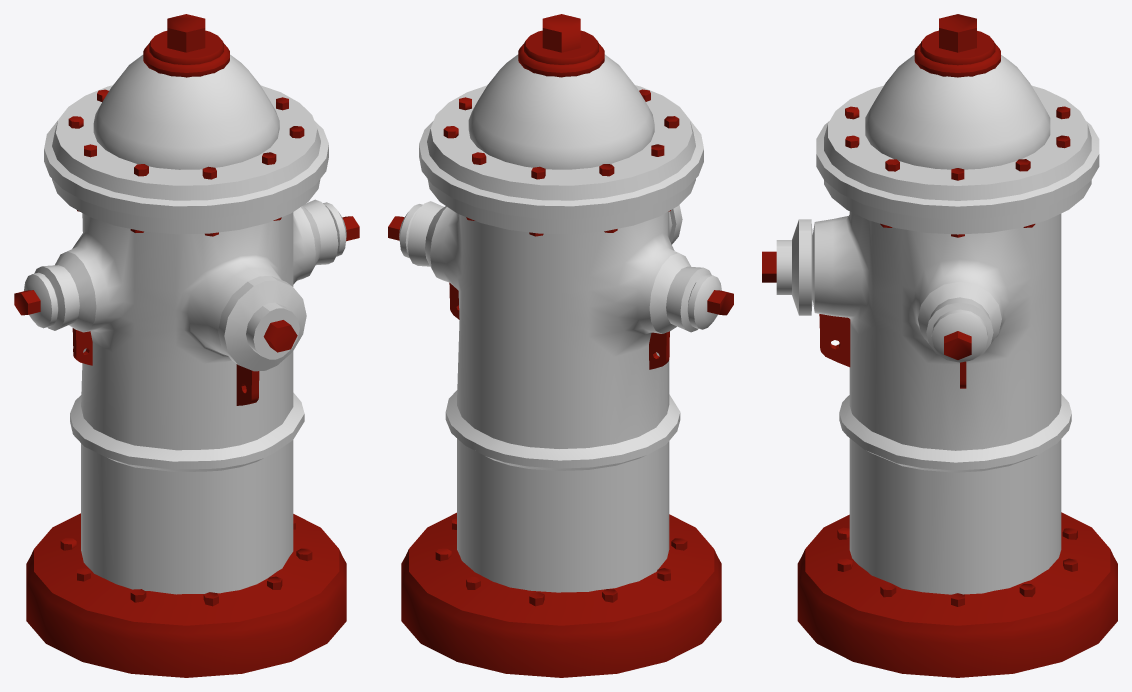
Rendered from hydrant fbx.FBX.
3 views of the same model, side by side, from view 1: azimuth 30°, elevation 25°; view 2: azimuth 150°, elevation 25°; view 3: azimuth 270°, elevation 25° (orthographic).
Visible parts, largest first — view 1: BASE, Cylinder002, TOP; view 2: BASE, Cylinder002, TOP; view 3: BASE, Cylinder002, TOP.
Part boxes in pixels (x1,y1,x2,y2): BASE: (24, 199, 346, 594); Cylinder002: (14, 14, 359, 677); TOP: (44, 54, 328, 234); BASE: (399, 201, 721, 592); Cylinder002: (388, 14, 733, 677); TOP: (419, 54, 703, 234); BASE: (776, 211, 1071, 594); Cylinder002: (762, 14, 1117, 677); TOP: (816, 54, 1099, 234).
Bounding box in the file's own units: 103 × 174 × 95.71.
